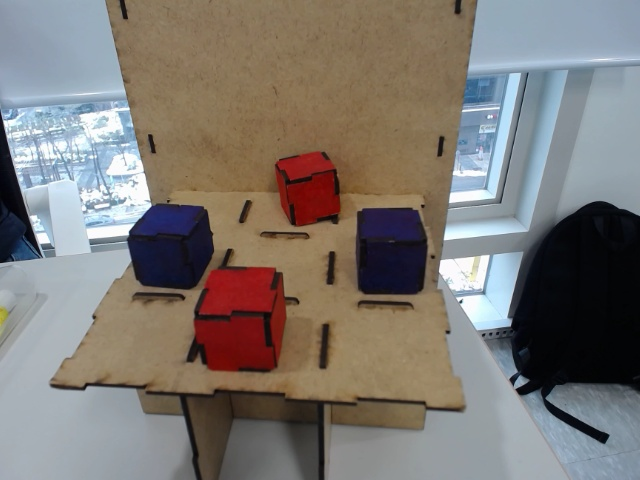blue: (129, 202, 213, 289), (354, 209, 429, 295)
red: (196, 267, 287, 369), (274, 152, 340, 225)
